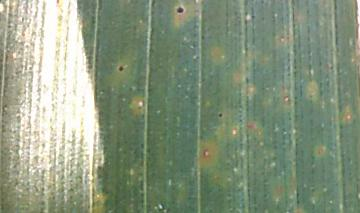tarspot: (175, 6, 186, 15), (117, 64, 125, 73), (217, 111, 224, 119)
